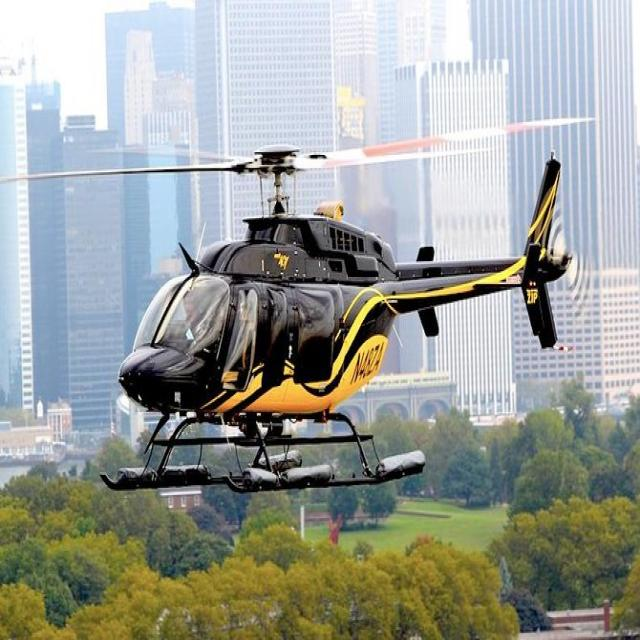helicopter: (91, 107, 611, 502)
